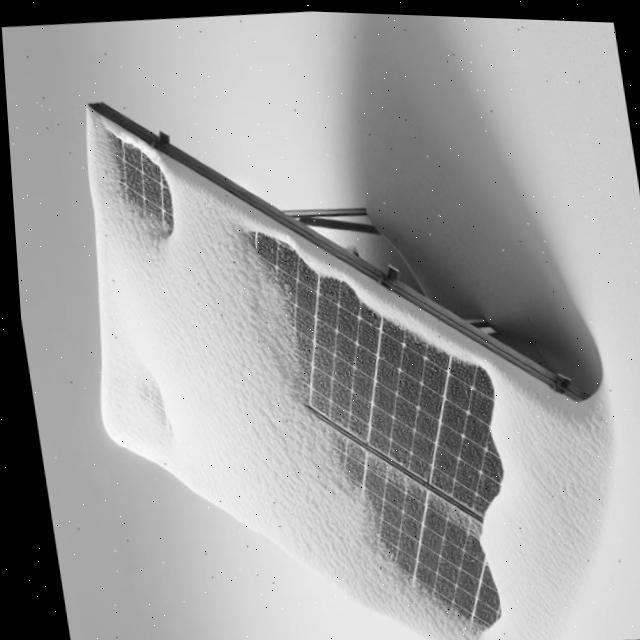Anomaly Solar Panel: (12, 105, 638, 640)
Snow: (12, 104, 640, 640)
